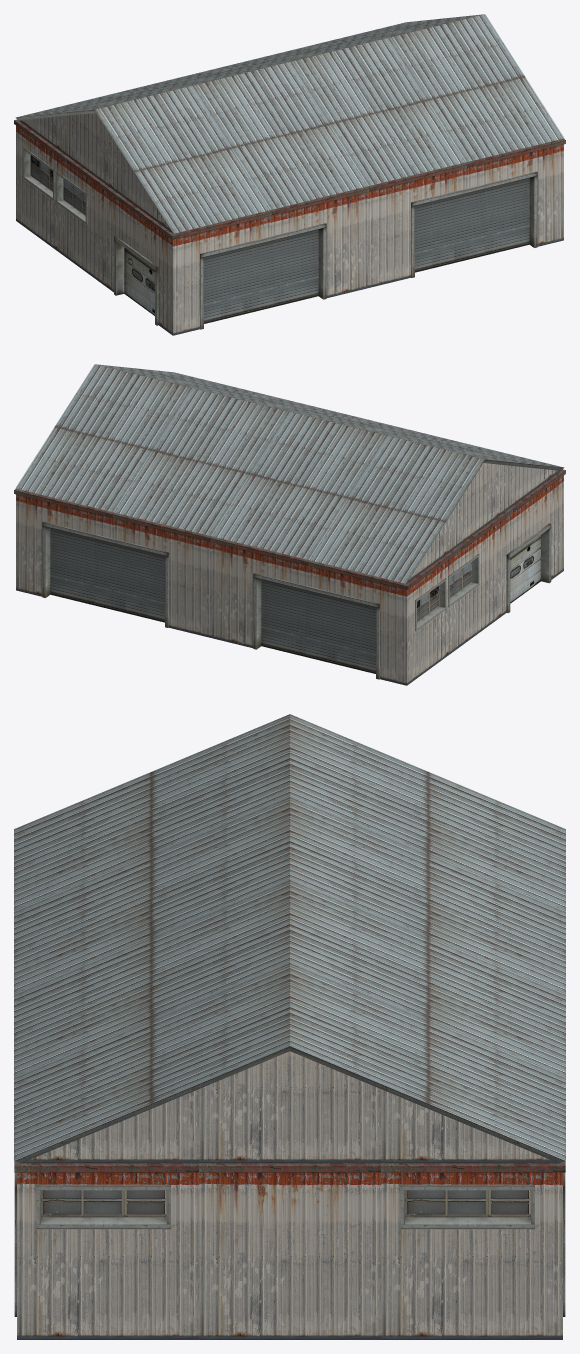
Rendered from Hangar_v2_3.FBX.
The picture shows the model from 3 angles, top to bottom: view 1: azimuth 30°, elevation 25°; view 2: azimuth 150°, elevation 25°; view 3: azimuth 270°, elevation 25°; orthographic projection. The views are drawn at different scales.
Visible parts, largest first — view 1: Hangar_v2_3; view 2: Hangar_v2_3; view 3: Hangar_v2_3.
Boxes of the visible parts, box(x1,y1,x2,y2) form: Hangar_v2_3: box(14, 14, 565, 335); Hangar_v2_3: box(14, 364, 565, 685); Hangar_v2_3: box(14, 714, 565, 1339).
Bounding box in the file's own units: 19.88 × 8.14 × 13.86.
